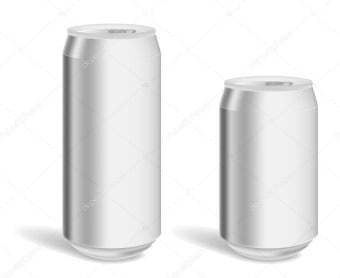paper: (63, 25, 165, 261), (216, 76, 321, 264)
